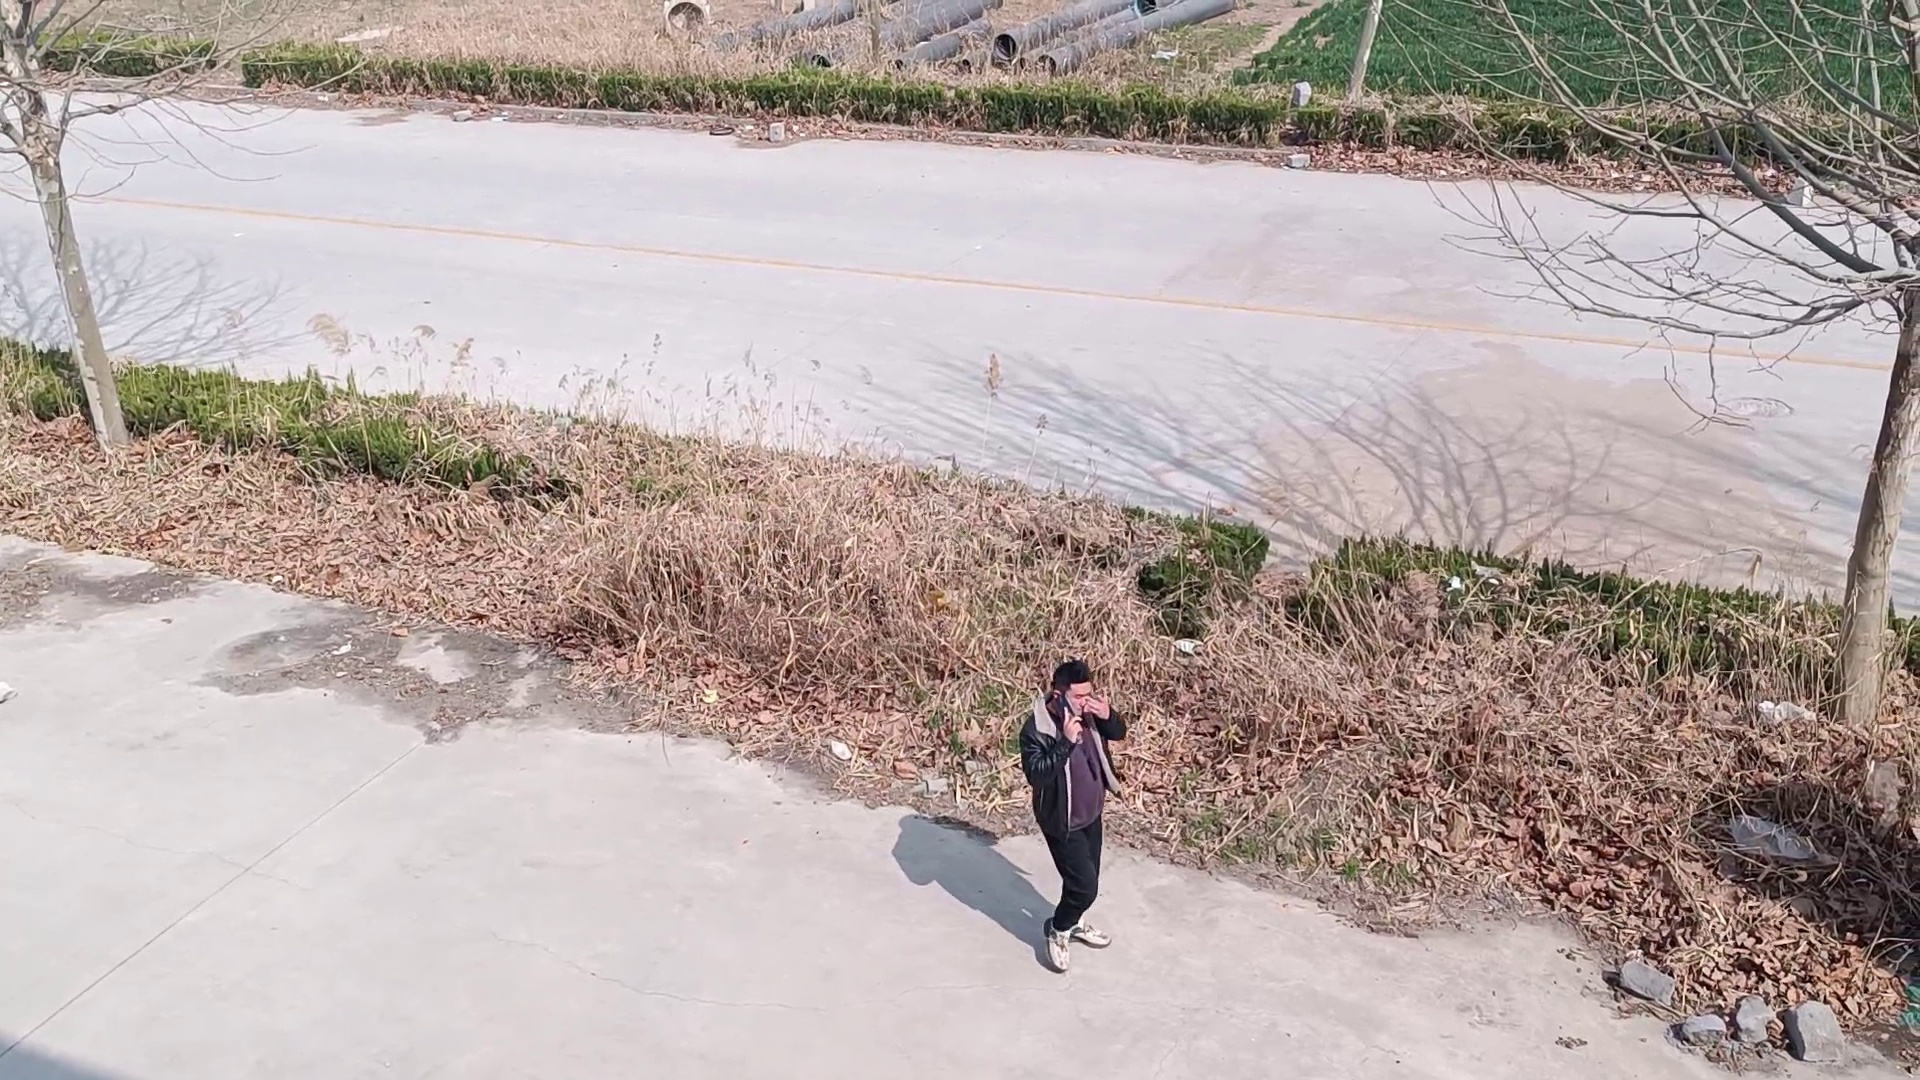phone: (1046, 661, 1102, 728)
